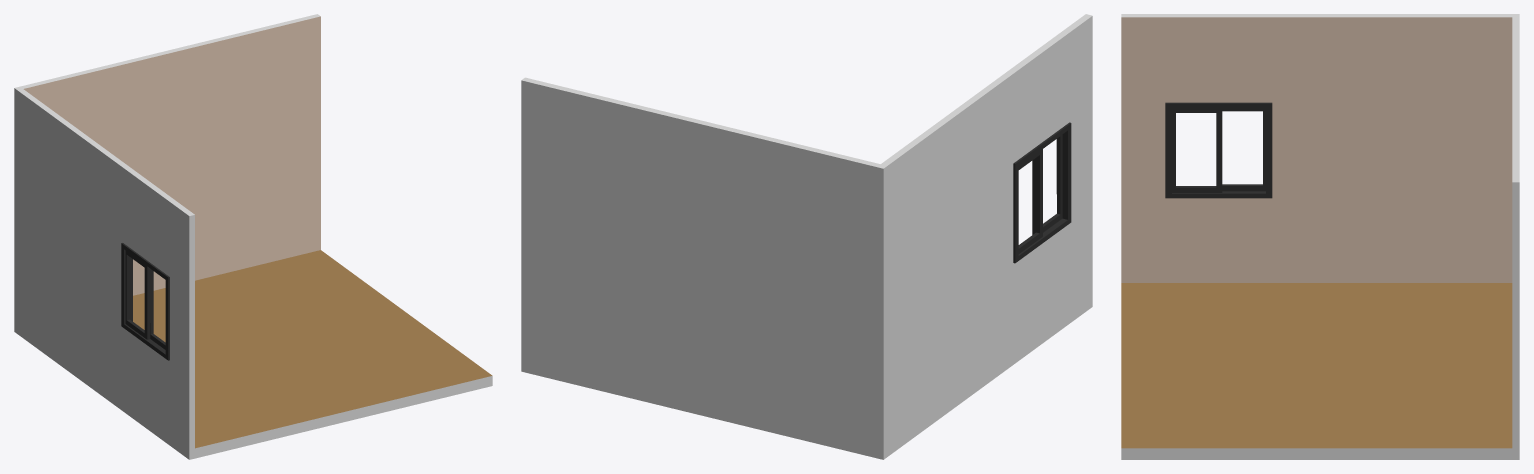
Rendered from room.glb.
The picture shows the model from 3 angles, left to right: view 1: azimuth 30°, elevation 25°; view 2: azimuth 150°, elevation 25°; view 3: azimuth 270°, elevation 25°; orthographic projection. The views are drawn at different scales.
Parts seen in each view (by area): view 1: Room; view 2: Room; view 3: Room.
Boxes of the visible parts, left/top/right/bottom form: Room: left=14, top=14, right=492, bottom=459; Room: left=521, top=14, right=1092, bottom=459; Room: left=1121, top=14, right=1519, bottom=459.
Bounding box in the file's own units: 16.39 × 12.52 × 16.31.
